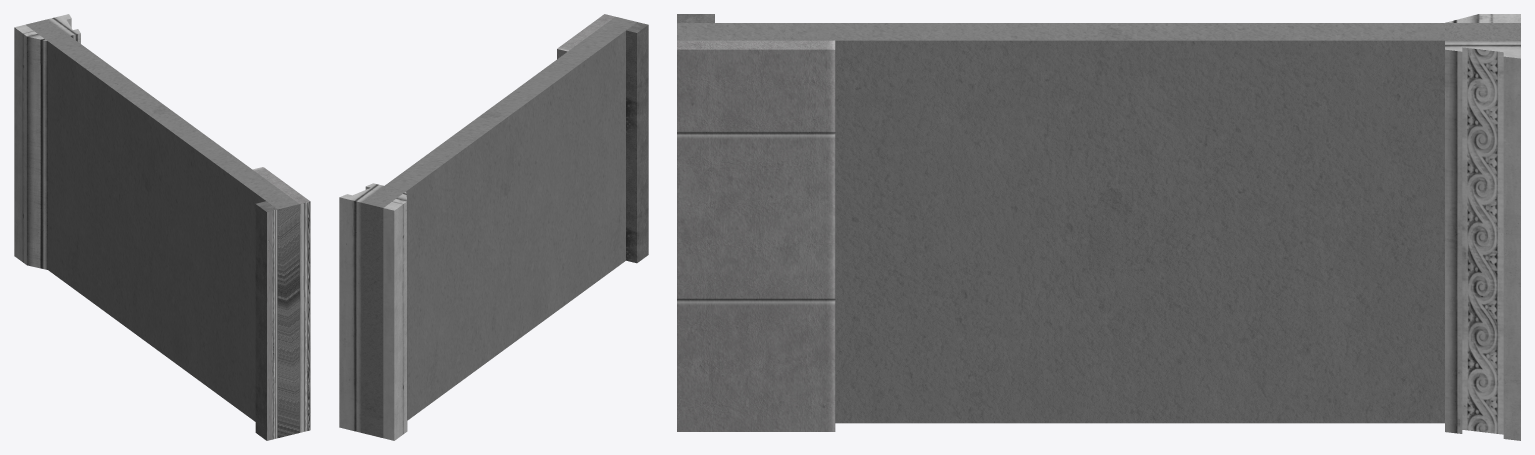
File: A_wall_ 2m.fbx
3 views of the same model, side by side, from view 1: azimuth 30°, elevation 25°; view 2: azimuth 150°, elevation 25°; view 3: azimuth 270°, elevation 25° (orthographic). The views are drawn at different scales.
Parts seen in each view (by area): view 1: A_wall__2m; view 2: A_wall__2m; view 3: A_wall__2m.
Part boxes in pixels (bbox=[...]): A_wall__2m: bbox=[14, 14, 310, 440]; A_wall__2m: bbox=[339, 14, 648, 440]; A_wall__2m: bbox=[677, 14, 1520, 440].
Bounding box in the file's own units: 0.5 × 2 × 4.
